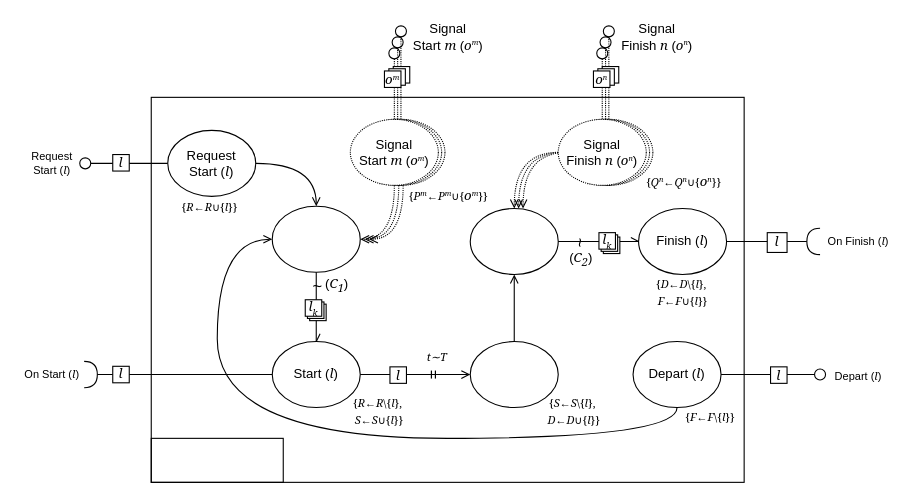
This 910x503 diagram has some shape labels left out. The centre of each missing label's shape, as x and y in pixels:
Attempt Finish: (513,240)
Attempt Start: (315,238)
R= ∅; S= ∅; D= ∅; F= ∅; ∀ m P m = ∅; ∀ n Q n = ∅;: (216,459)
Ready Finish ( l ): (513,374)
